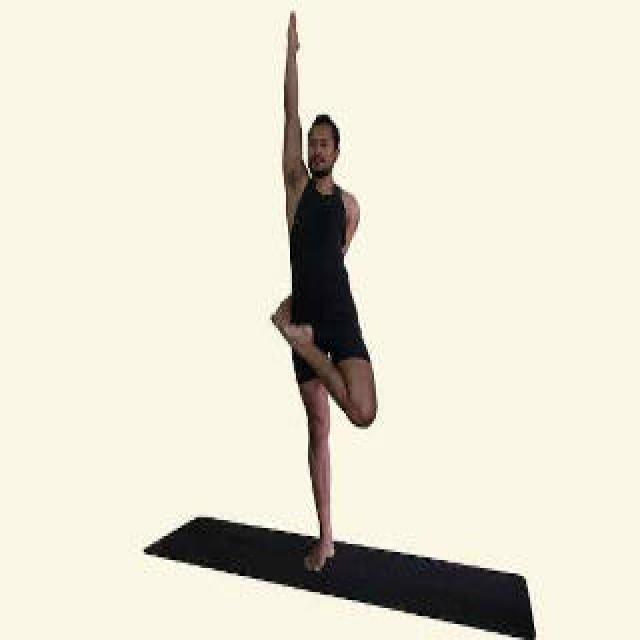yoga-pose tree: (270, 9, 374, 568)
